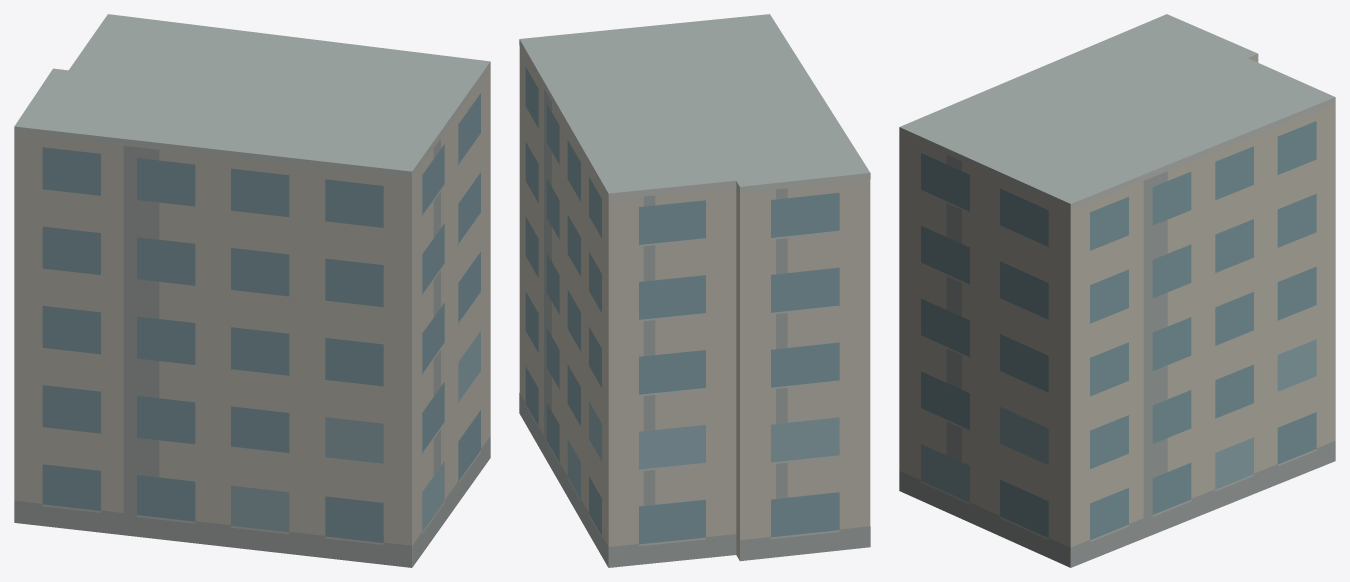
File: survey-upis-32849462.glb
3 renders of one model, left to right at view 1: azimuth 30°, elevation 25°; view 2: azimuth 150°, elevation 25°; view 3: azimuth 270°, elevation 25°, orthographic. The views are drawn at different scales.
Visible parts, largest first — view 1: survey-upis-32849462.tmp; view 2: survey-upis-32849462.tmp; view 3: survey-upis-32849462.tmp.
Part boxes in pixels (box(x1,y1,x2,y2)): survey-upis-32849462.tmp: box(14, 14, 490, 567); survey-upis-32849462.tmp: box(519, 14, 870, 567); survey-upis-32849462.tmp: box(899, 14, 1335, 567).
Size of the model in its own units: 15.79 by 14.1 by 15.32.
